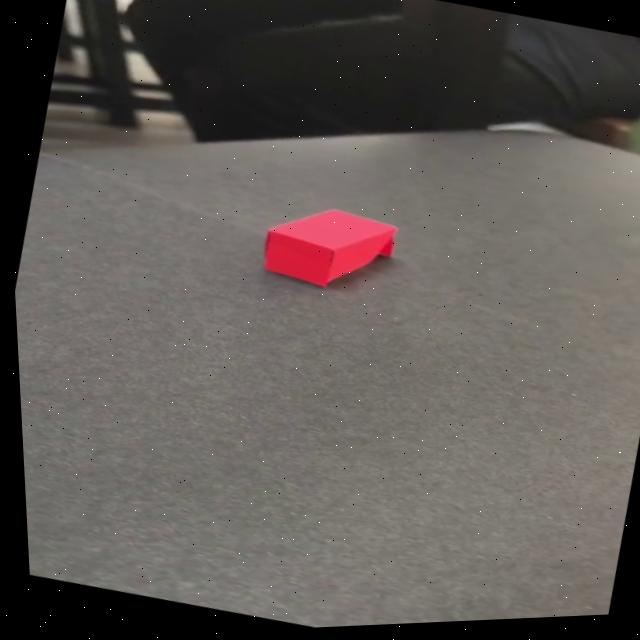red block: (252, 189, 402, 302)
